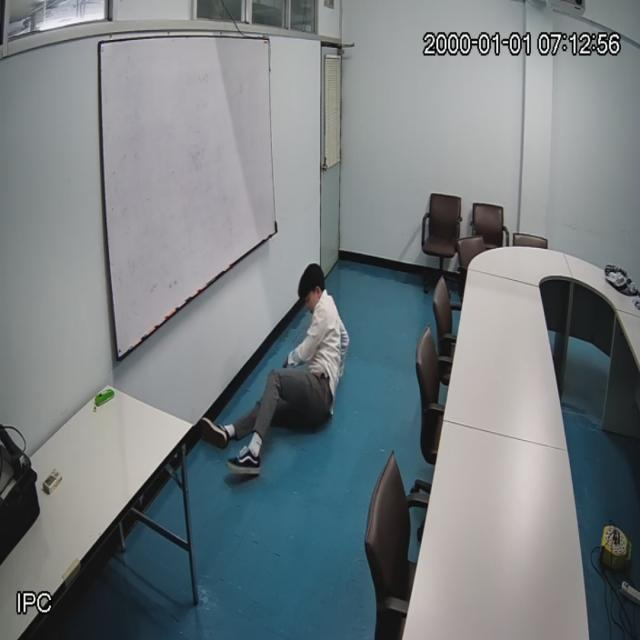fall: (199, 258, 354, 480)
